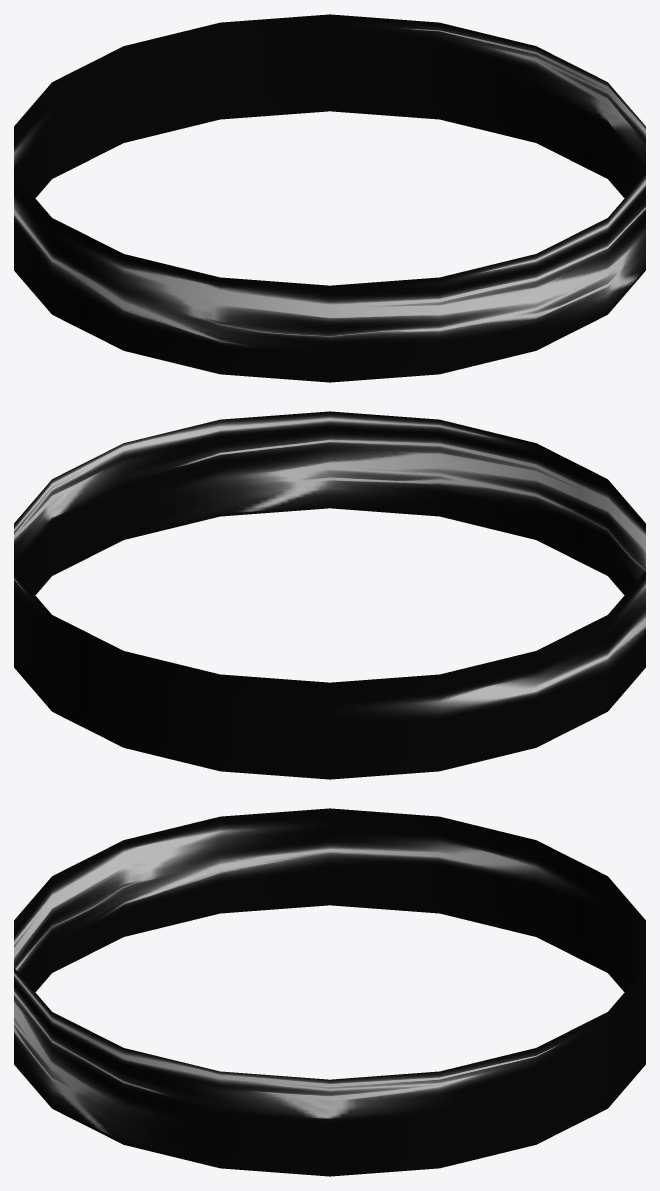
The model's file is 0366_lilisishou_M_03.glb.
3 renders of one model, top to bottom at view 1: azimuth 30°, elevation 25°; view 2: azimuth 150°, elevation 25°; view 3: azimuth 270°, elevation 25°, orthographic.
Bounding box in the file's own units: 2.2 × 0.3667 × 2.17.
1 material, 1 textured.
